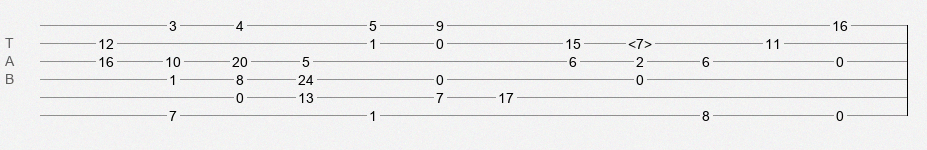0: (236, 90, 244, 100), (436, 36, 444, 46), (436, 72, 444, 82), (636, 72, 644, 82), (836, 108, 844, 118), (836, 54, 844, 64)
1: (169, 72, 177, 82), (369, 36, 377, 46), (369, 108, 377, 118)
10: (165, 54, 181, 64)
11: (765, 36, 781, 46)
12: (98, 36, 114, 46)
13: (298, 90, 314, 100)
15: (565, 36, 581, 46)
16: (98, 54, 114, 64), (832, 18, 848, 28)
17: (498, 90, 514, 100)
2: (636, 54, 644, 64)
20: (232, 54, 248, 64)
24: (298, 72, 314, 82)
3: (169, 18, 177, 28)
4: (236, 18, 244, 28)
5: (302, 54, 310, 64), (369, 18, 377, 28)
6: (569, 54, 577, 64), (702, 54, 710, 64)
7: (169, 108, 177, 118), (436, 90, 444, 100)
8: (236, 72, 244, 82), (702, 108, 710, 118)
9: (436, 18, 444, 28)
harmonic: (628, 36, 652, 46)
